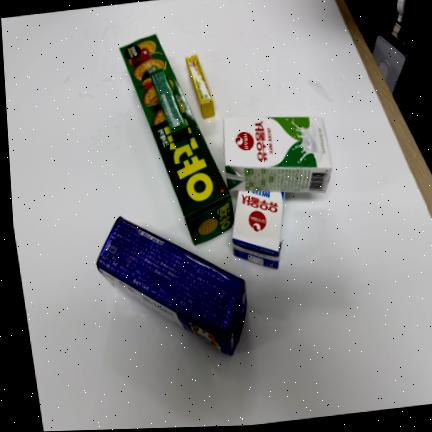cracker_ace: (97, 218, 247, 356)
cracker_vege: (120, 34, 234, 245)
gum_green: (148, 67, 190, 148)
gum_yellow: (186, 55, 215, 119)
milk_blue: (233, 191, 284, 269)
milk_green: (224, 116, 332, 192)
